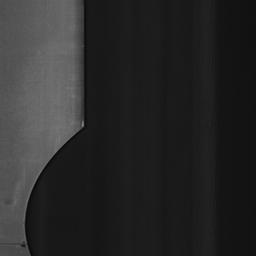Crescent gap: (25, 129, 81, 256)
